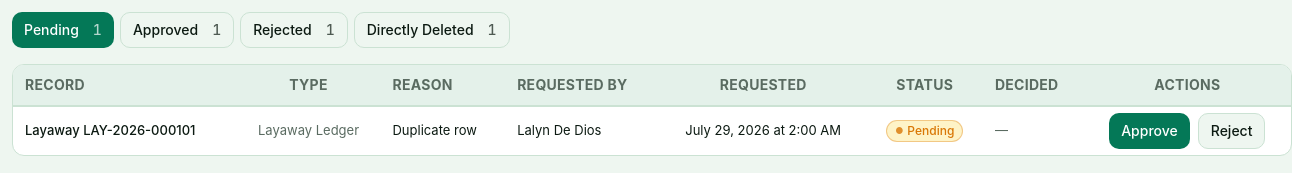
Deletion Requests — the register (§2) › switches buckets without losing the others
Click the tab with test id "deletion-tab-approved".
click(177, 30)  # box [120,12,234,48]
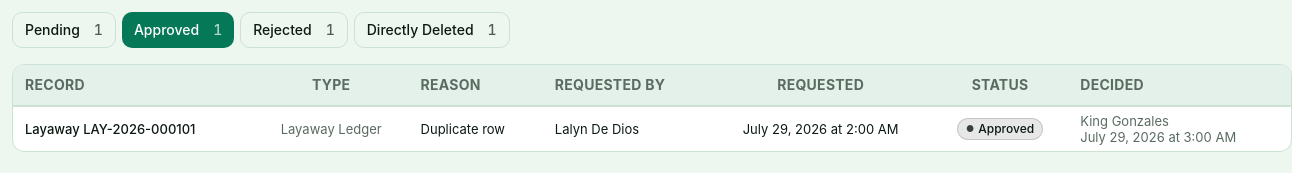
Expected: the text "Approved" is shown, [978,121,1034,137]
